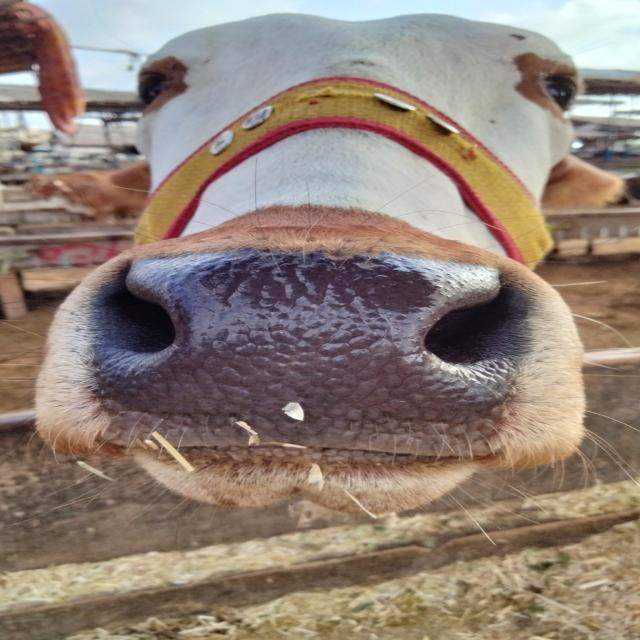muzzles: (90, 244, 540, 464)
